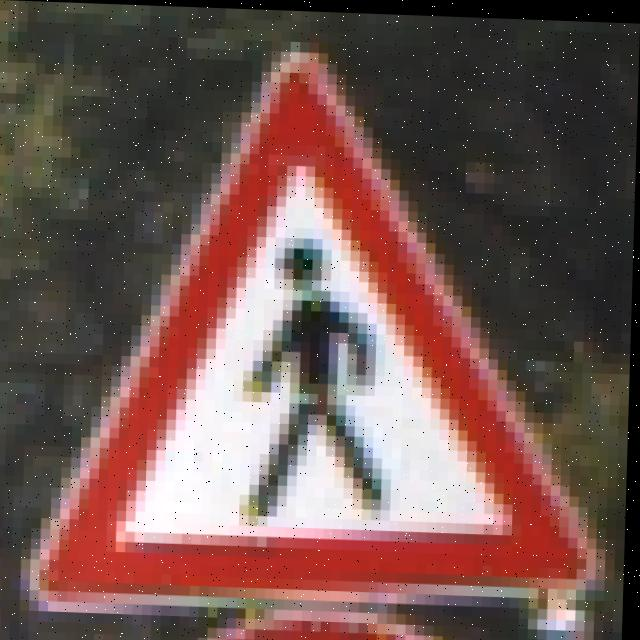crosswalk: (32, 19, 622, 602)
